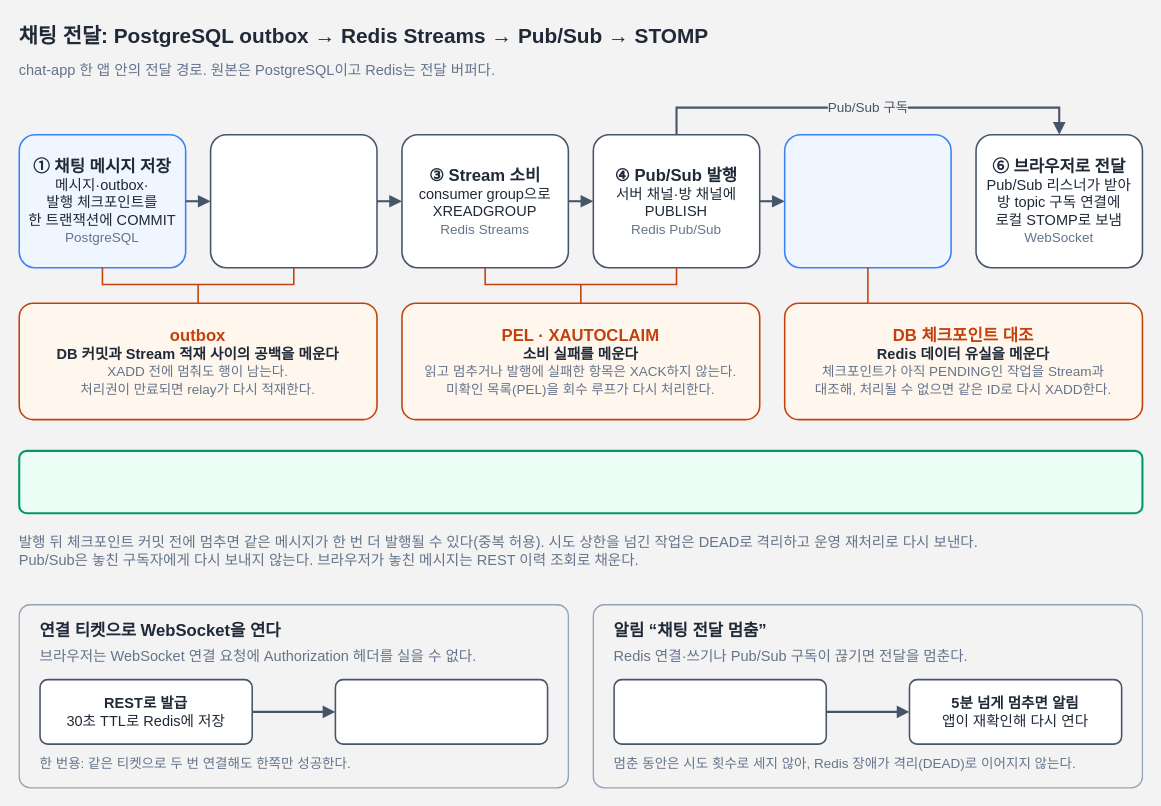
The diagram is 1161 pixels wide and 806 high, and some of its shapes have lost their labels. Here are the shapes that lost their labels. From the top down, the centre of each, then its label:
At (293,200): "② outbox relay 처리권(lease)으로 행을 선점·커밋한 뒤 트랜잭션 밖에서 XADD PostgreSQL → Redis".
At (867,200): "⑤ 체크포인트 커밋 PUBLISHED로 커밋한 뒤에만 XACK PostgreSQL → Redis".
At (580,481): "Redis가 멈추거나 데이터를 잃어도 메시지는 DB에 남고, 발행되지 않은 작업은 다시 발행된다".
At (441,711): "핸드셰이크에서 GETDEL 꺼내면서 지운다".
At (720,711): "파이프라인 멈춤 작업은 outbox·PEL에 남음".
